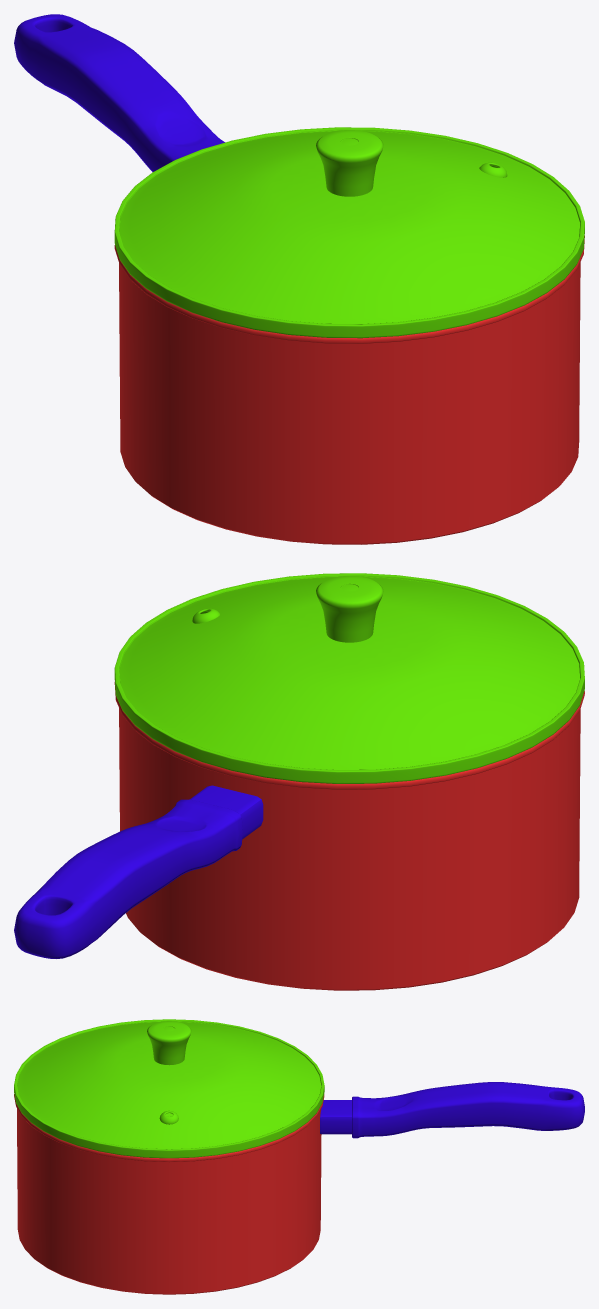
File: Pot_Mesh.fbx
3 views of the same model, one above another, from view 1: azimuth 30°, elevation 25°; view 2: azimuth 150°, elevation 25°; view 3: azimuth 270°, elevation 25° (orthographic). The views are drawn at different scales.
Parts seen in each view (by area): view 1: Pot3; view 2: Pot3; view 3: Pot3.
Part boxes in pixels (x1,y1,x2,y2): Pot3: (14, 14, 584, 544); Pot3: (14, 573, 584, 990); Pot3: (14, 1019, 584, 1294).
Bounding box in the file's own units: 20.16 × 14.54 × 37.06.
